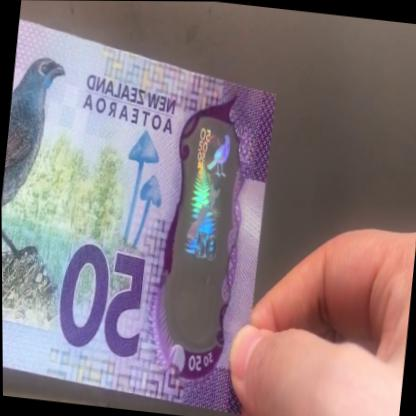50B: (171, 122, 237, 331)
